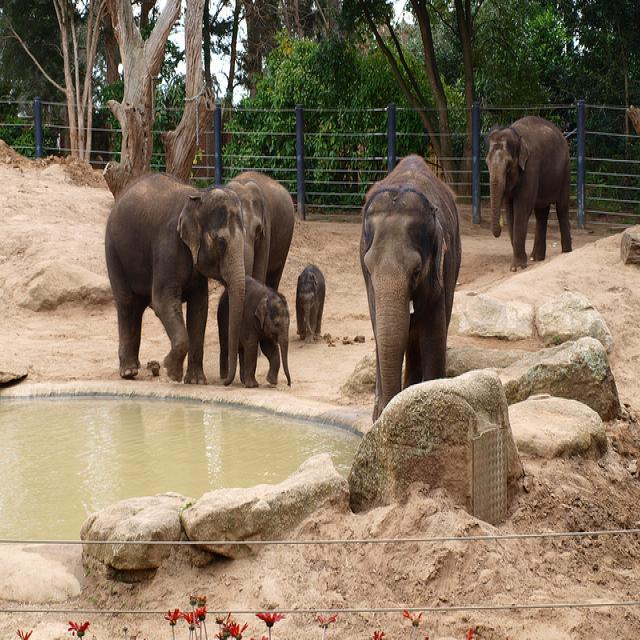Elephant: (104, 171, 247, 384), (358, 153, 461, 423), (484, 113, 572, 272), (223, 169, 294, 292), (216, 273, 291, 387), (295, 263, 325, 341)
